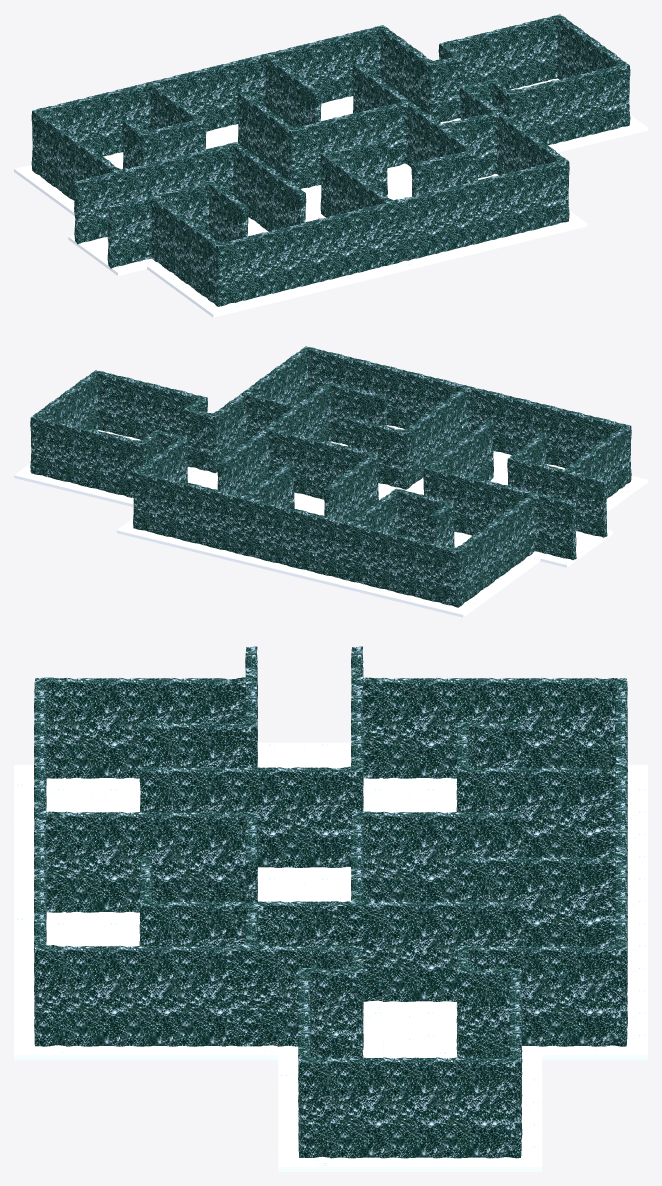
The model's file is Maze.glb.
The picture shows the model from 3 angles, top to bottom: view 1: azimuth 30°, elevation 25°; view 2: azimuth 150°, elevation 25°; view 3: azimuth 270°, elevation 25°; orthographic projection. The views are drawn at different scales.
Parts seen in each view (by area): view 1: Maze_Wall_N (×63), Maze_Wall_C (×18), Maze_Wall_T (×8), Maze_Wall_S (×8), Maze_Floor; view 2: Maze_Wall_N (×62), Maze_Wall_C (×18), Maze_Wall_T (×8), Maze_Wall_S (×7), Maze_Floor; view 3: Maze_Wall_N (×33), Maze_Wall_C (×17), Maze_Wall_T (×8), Maze_Floor (×21), Maze_Wall_S (×6).
Boxes of the visible parts, <box> form: Maze_Wall_N (×63): <box>42,19,612,302</box>; Maze_Wall_C (×18): <box>31,14,630,306</box>; Maze_Wall_T (×8): <box>103,50,508,266</box>; Maze_Wall_S (×8): <box>122,63,432,239</box>; Maze_Floor: <box>196,300,241,317</box>; Maze_Wall_N (×62): <box>46,350,622,603</box>; Maze_Wall_C (×18): <box>30,346,631,607</box>; Maze_Wall_T (×8): <box>229,382,579,583</box>; Maze_Wall_S (×7): <box>217,392,493,545</box>; Maze_Floor: <box>436,601,478,617</box>; Maze_Wall_N (×33): <box>66,677,595,1158</box>; Maze_Wall_C (×17): <box>34,677,627,1158</box>; Maze_Wall_T (×8): <box>34,668,627,1046</box>; Maze_Floor (×21): <box>14,742,647,1171</box>; Maze_Wall_S (×6): <box>139,722,522,946</box>.
Bounding box in the file's own units: 19.03 × 2.12 × 12.
2 materials, 2 textured.
